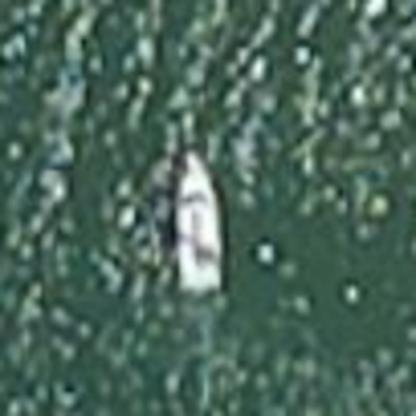ship: (164, 140, 230, 299)
